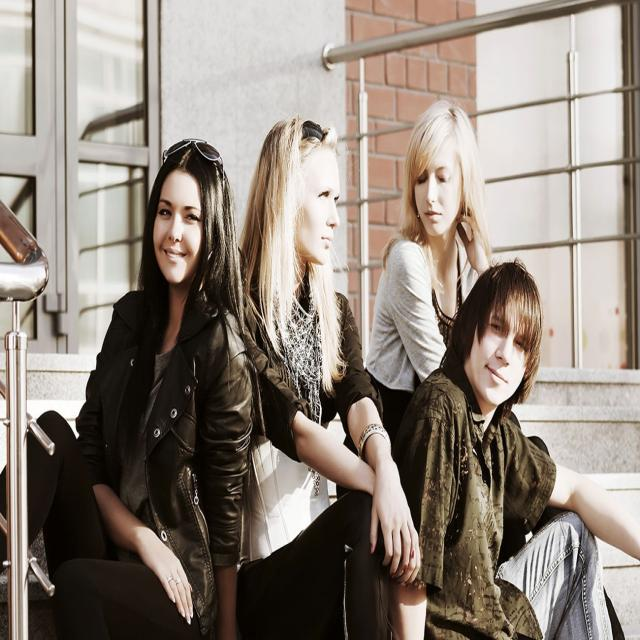body: (0, 129, 257, 639), (234, 114, 425, 636), (390, 250, 640, 640), (362, 100, 497, 452)
